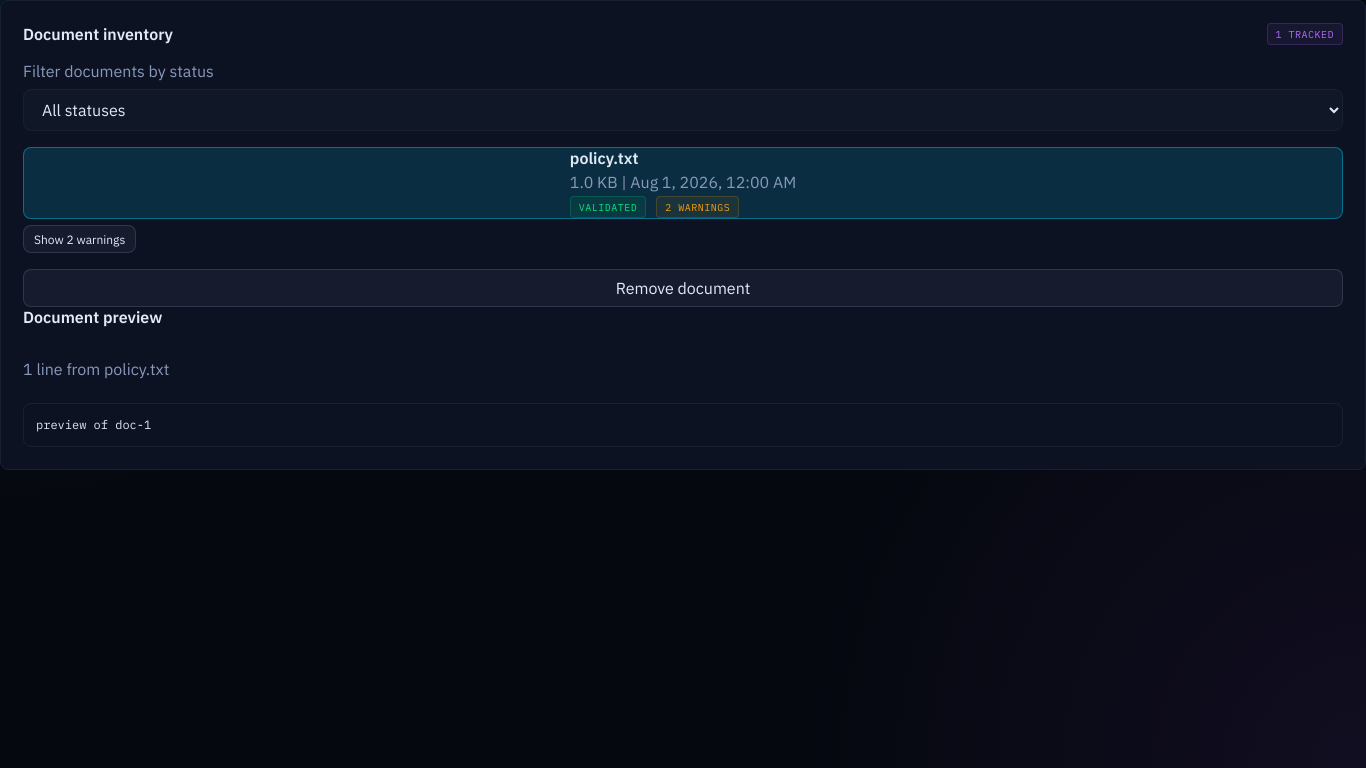
Scenario: DataSection › shows a warning chip and its reasons behind an explicit toggle
Expected: the text "2 warnings" is shown, [656,196,739,218]
Step 1. Click the button "Show 2 warnings" → point(80, 239), box [23,225,136,253]
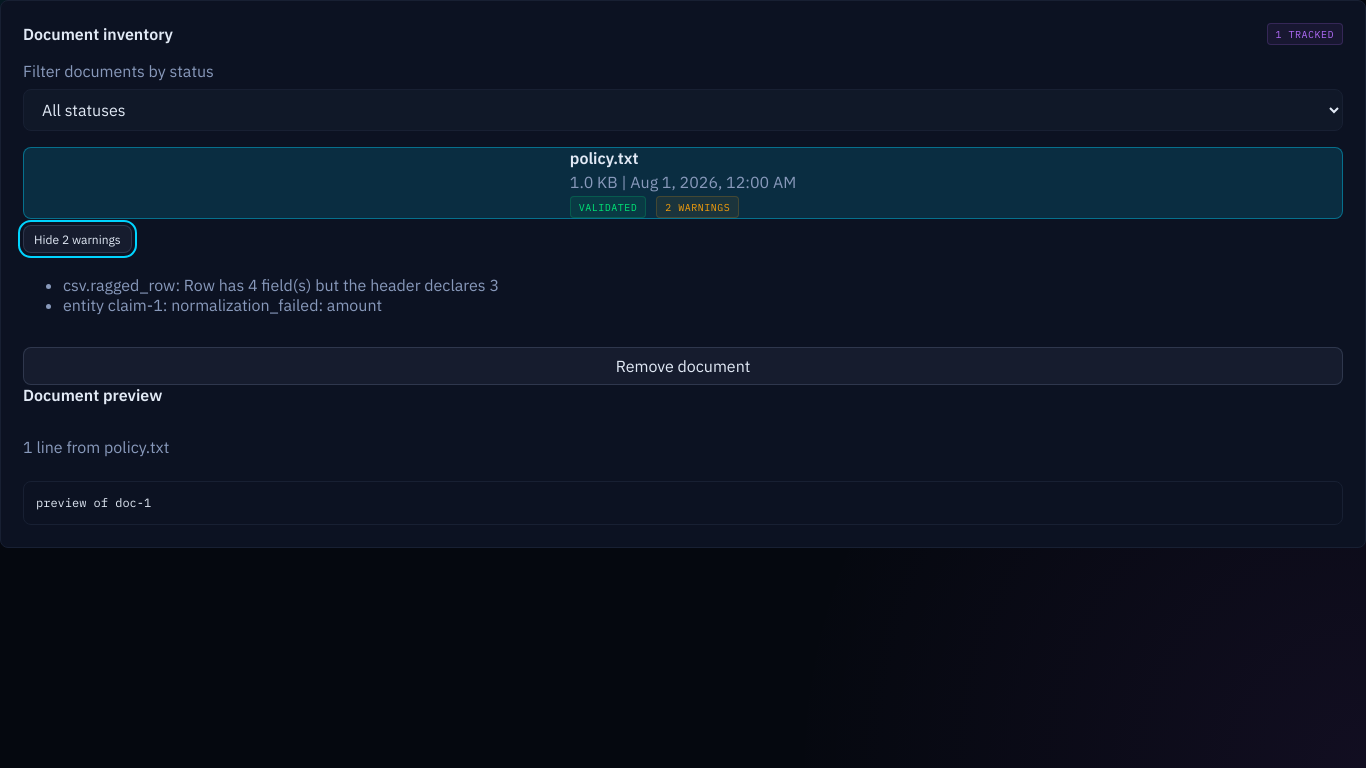
Expected: the list item "csv.ragged_row: Row has 4 field(s) but the header declares 3" is shown, [63,275,499,295]
Expected: the list item "entity claim-1: normalization_failed: amount" is shown, [63,295,382,315]
